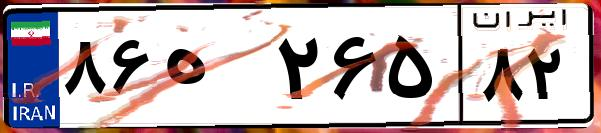2: (270, 28, 330, 110), (525, 38, 570, 115)
5: (385, 28, 445, 110)
6: (330, 28, 385, 110), (110, 28, 158, 98)
8: (57, 26, 110, 100), (475, 38, 525, 113)
ه: (158, 20, 270, 120)
